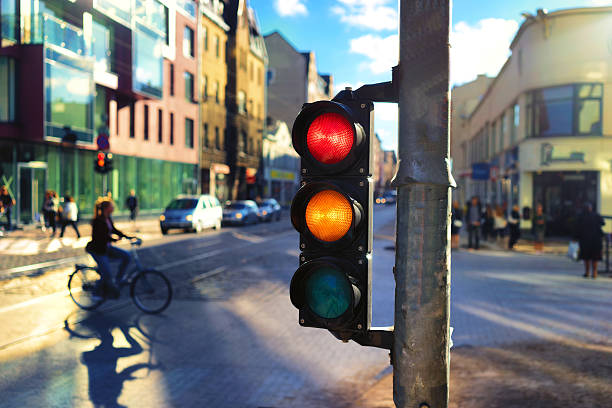trafficlight: (291, 99, 361, 340)
